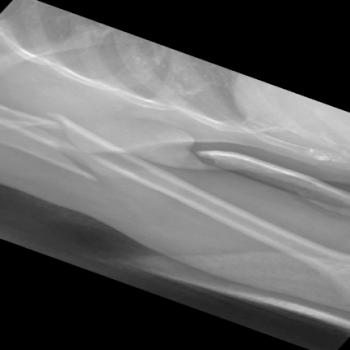Fracture: (26, 102, 99, 192)
